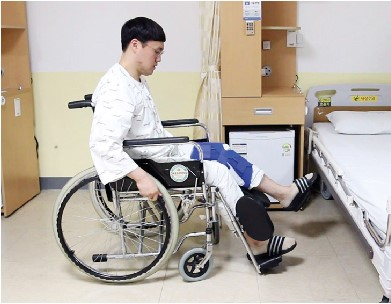wheelchair: (53, 17, 316, 282)
